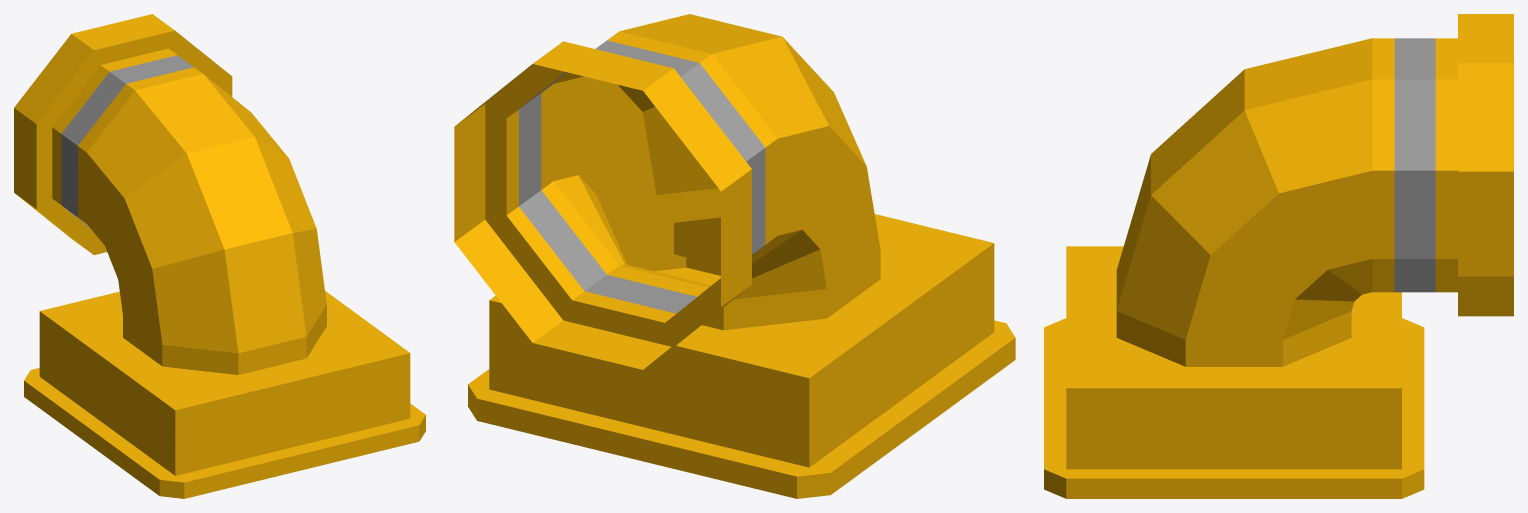
The model's file is modular_engine_fuel_manifold_housing.dae.
3 renders of one model, left to right at view 1: azimuth 30°, elevation 25°; view 2: azimuth 150°, elevation 25°; view 3: azimuth 270°, elevation 25°, orthographic. The views are drawn at different scales.
Visible parts, largest first — view 1: Cube; view 2: Cube; view 3: Cube.
Part boxes in pixels (bbox=[...]): Cube: bbox=[14, 14, 425, 498]; Cube: bbox=[454, 14, 1015, 498]; Cube: bbox=[1044, 14, 1513, 498].
Bounding box in the file's own units: 0.17 × 0.21 × 0.1875.
